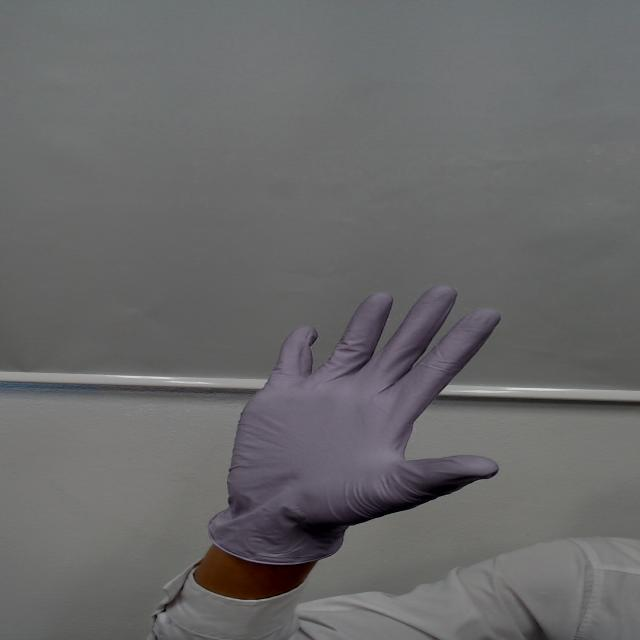glove: (151, 263, 565, 537)
